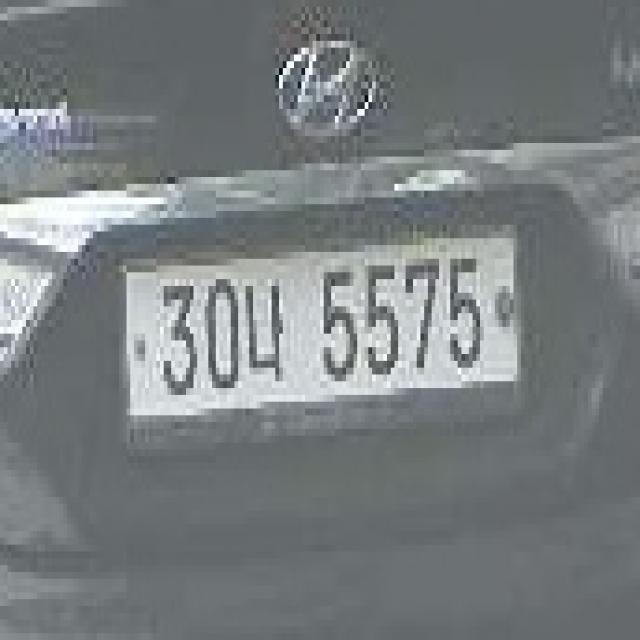0: (205, 272, 238, 395)
3: (160, 279, 201, 402)
5: (320, 266, 357, 388), (365, 259, 402, 381), (446, 252, 484, 368)
7: (406, 259, 439, 374)
license_plate: (119, 224, 525, 436)
na: (246, 279, 286, 381)
